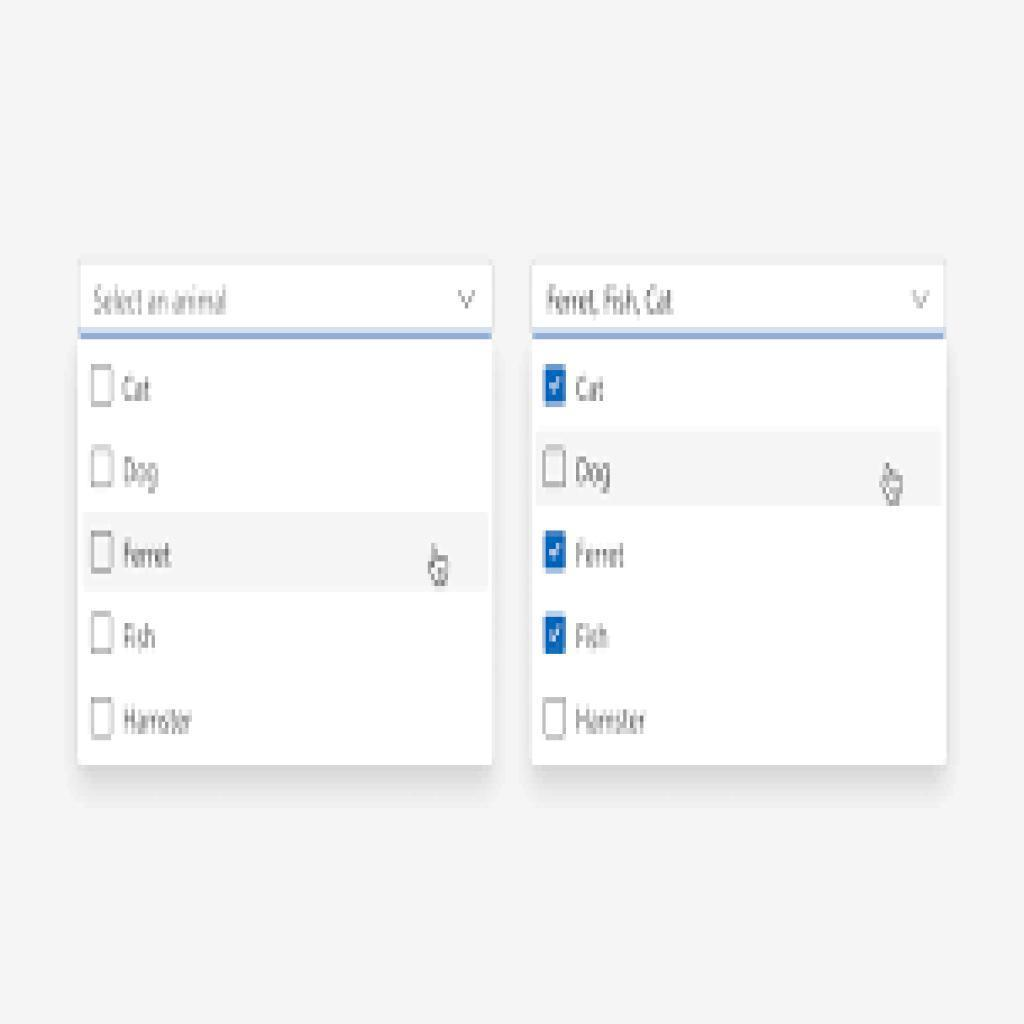checkbox: (543, 610, 570, 657), (542, 441, 567, 491), (91, 533, 117, 573), (92, 696, 115, 741), (545, 529, 568, 573), (91, 445, 115, 487), (546, 363, 567, 410), (93, 367, 114, 410), (544, 701, 569, 737), (91, 614, 113, 653)
dropdown: (74, 255, 497, 336), (533, 256, 946, 335)
label: (574, 704, 655, 741), (123, 706, 195, 742), (576, 535, 622, 575), (125, 539, 177, 574), (579, 454, 622, 493), (121, 622, 162, 657), (124, 456, 162, 493), (121, 367, 156, 406), (576, 621, 612, 657), (573, 373, 612, 402)
